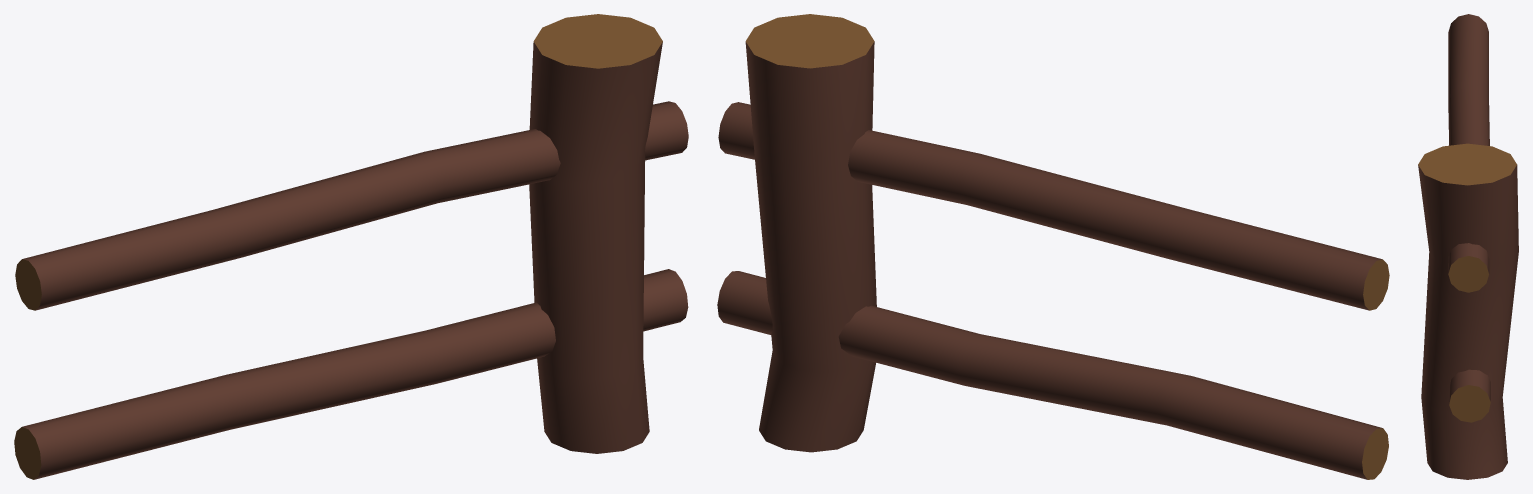
Rendered from WoodRoundFence_Half.fbx.
3 views of the same model, side by side, from view 1: azimuth 30°, elevation 25°; view 2: azimuth 150°, elevation 25°; view 3: azimuth 270°, elevation 25° (orthographic). The views are drawn at different scales.
Parts seen in each view (by area): view 1: WoodRoundFence_Half; view 2: WoodRoundFence_Half; view 3: WoodRoundFence_Half.
Boxes of the visible parts, bbox=[...] form: WoodRoundFence_Half: bbox=[14, 14, 688, 479]; WoodRoundFence_Half: bbox=[717, 14, 1389, 479]; WoodRoundFence_Half: bbox=[1418, 14, 1518, 479].
Bounding box in the file's own units: 302 × 174 × 53.22.
